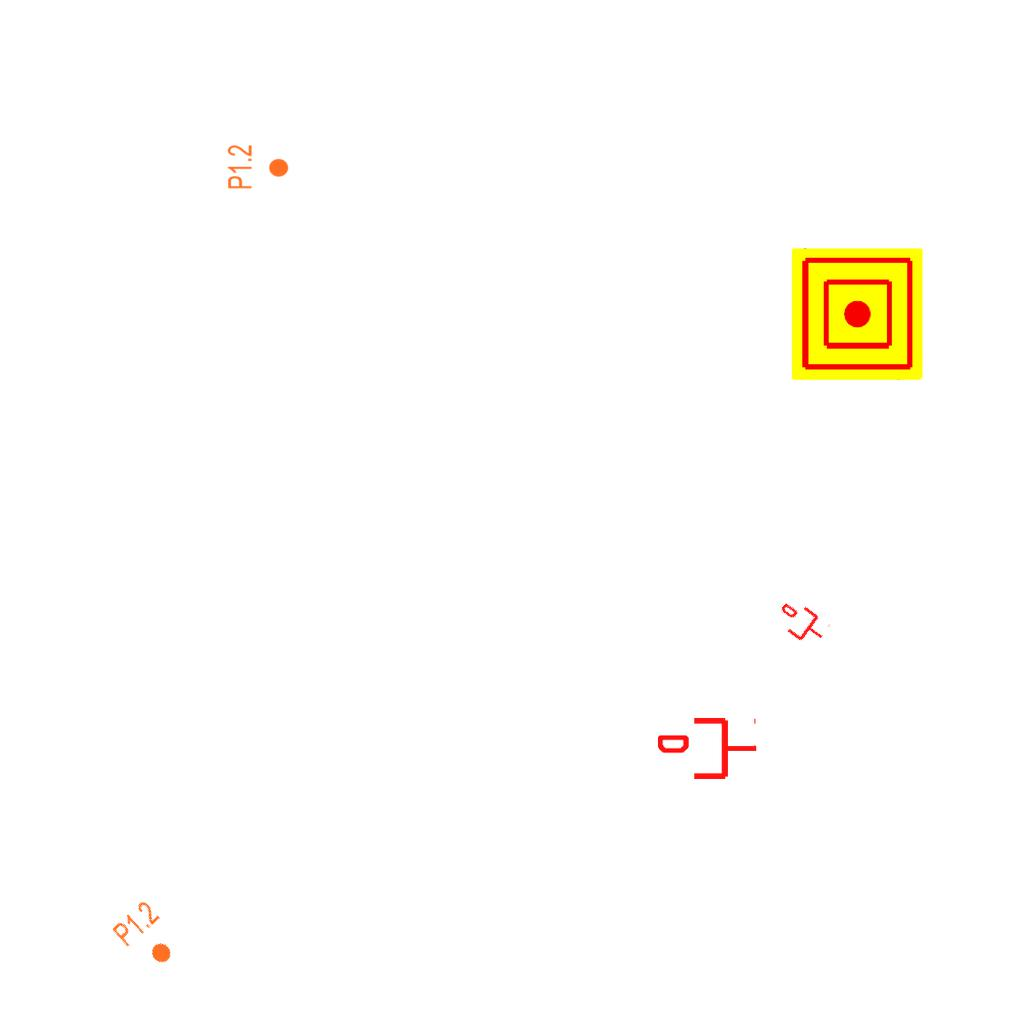Datenanschluss_einfach: (658, 714, 758, 783), (771, 594, 833, 652)
Downlight_LED_Einbauleuchten_Flur: (109, 897, 187, 977), (226, 144, 290, 190)
NAM-Nichtautomatischer_Melder: (791, 248, 923, 380)
